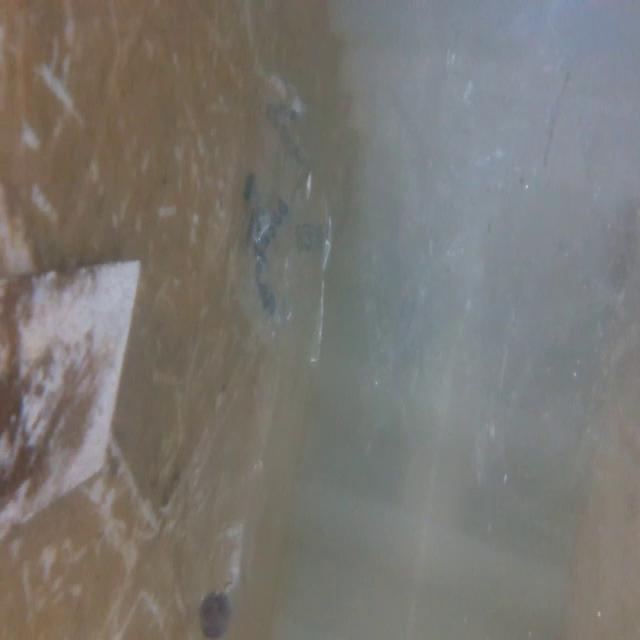metal: (0, 254, 144, 534)
plastic bags: (223, 72, 348, 390)
plastic bottle: (182, 404, 262, 640)
